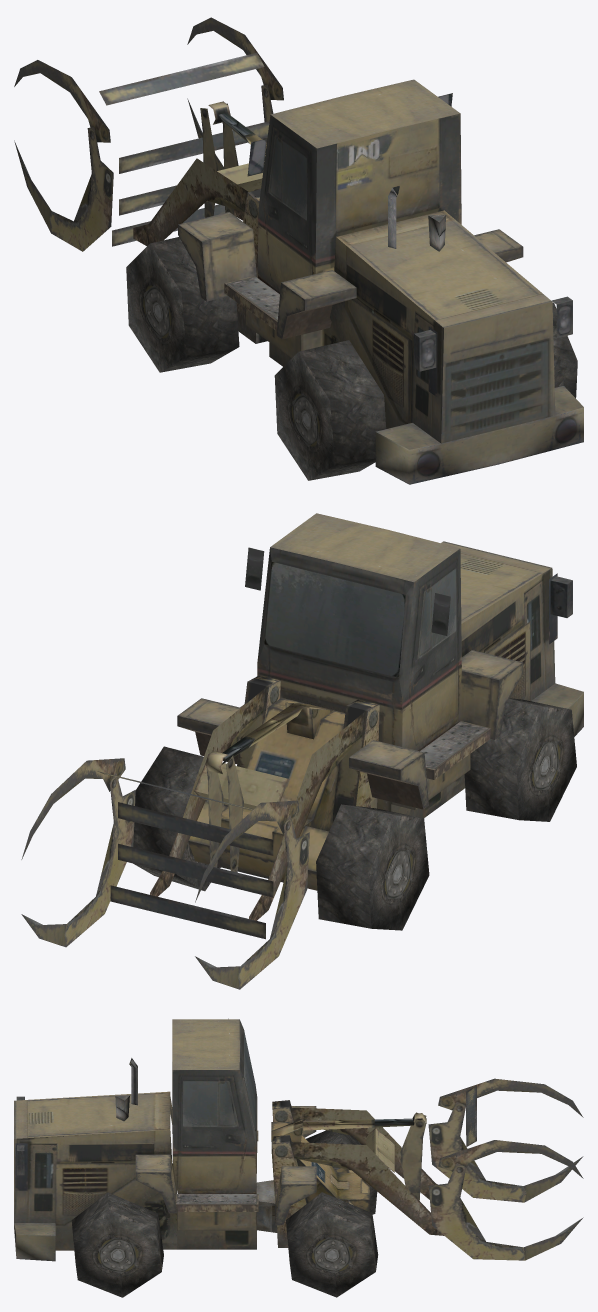
File: Building_LinjgdDj003b_lod2.glb
3 renders of one model, top to bottom at view 1: azimuth 30°, elevation 25°; view 2: azimuth 150°, elevation 25°; view 3: azimuth 270°, elevation 25°, orthographic. The views are drawn at different scales.
Parts seen in each view (by area): view 1: bmsl_linjgd_dj003b_lod2_0; view 2: bmsl_linjgd_dj003b_lod2_0; view 3: bmsl_linjgd_dj003b_lod2_0.
Part boxes in pixels (x1,y1,x2,y2): bmsl_linjgd_dj003b_lod2_0: (14,17,583,484); bmsl_linjgd_dj003b_lod2_0: (21,513,583,989); bmsl_linjgd_dj003b_lod2_0: (14,1018,583,1297).
Size of the model in its own units: 5.76 by 6.69 by 16.2.
2 materials, 2 textured.
